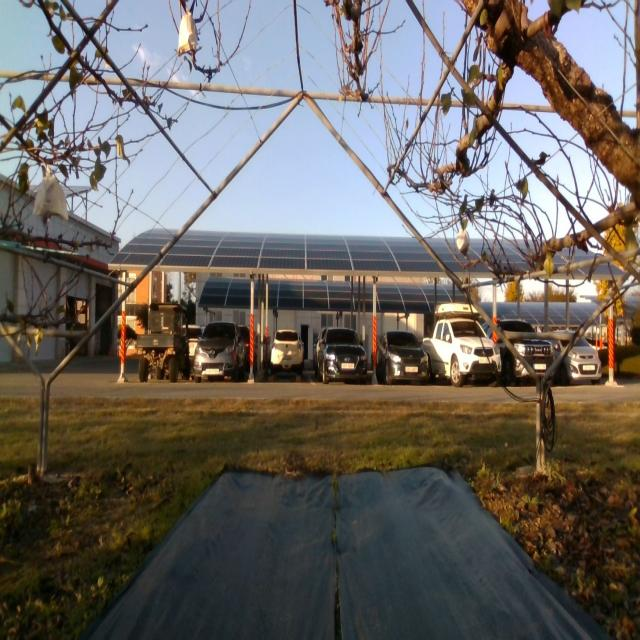pearbags: (33, 177, 68, 220), (178, 12, 197, 56), (456, 228, 470, 257)
